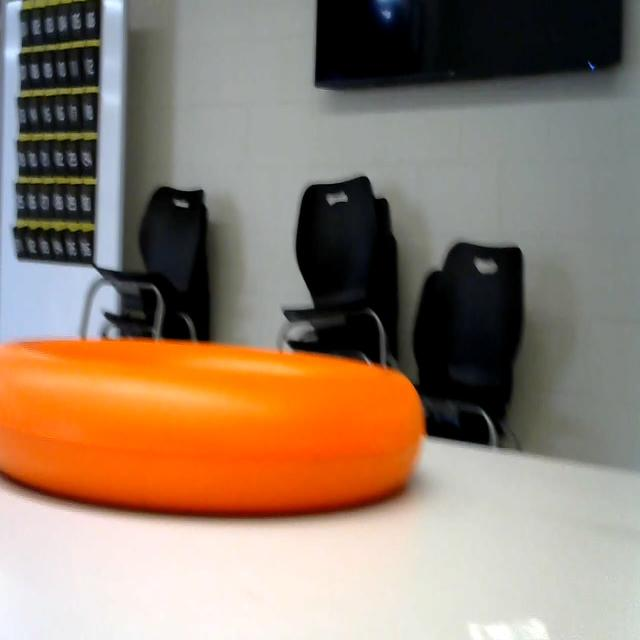note: (0, 336, 432, 510)
